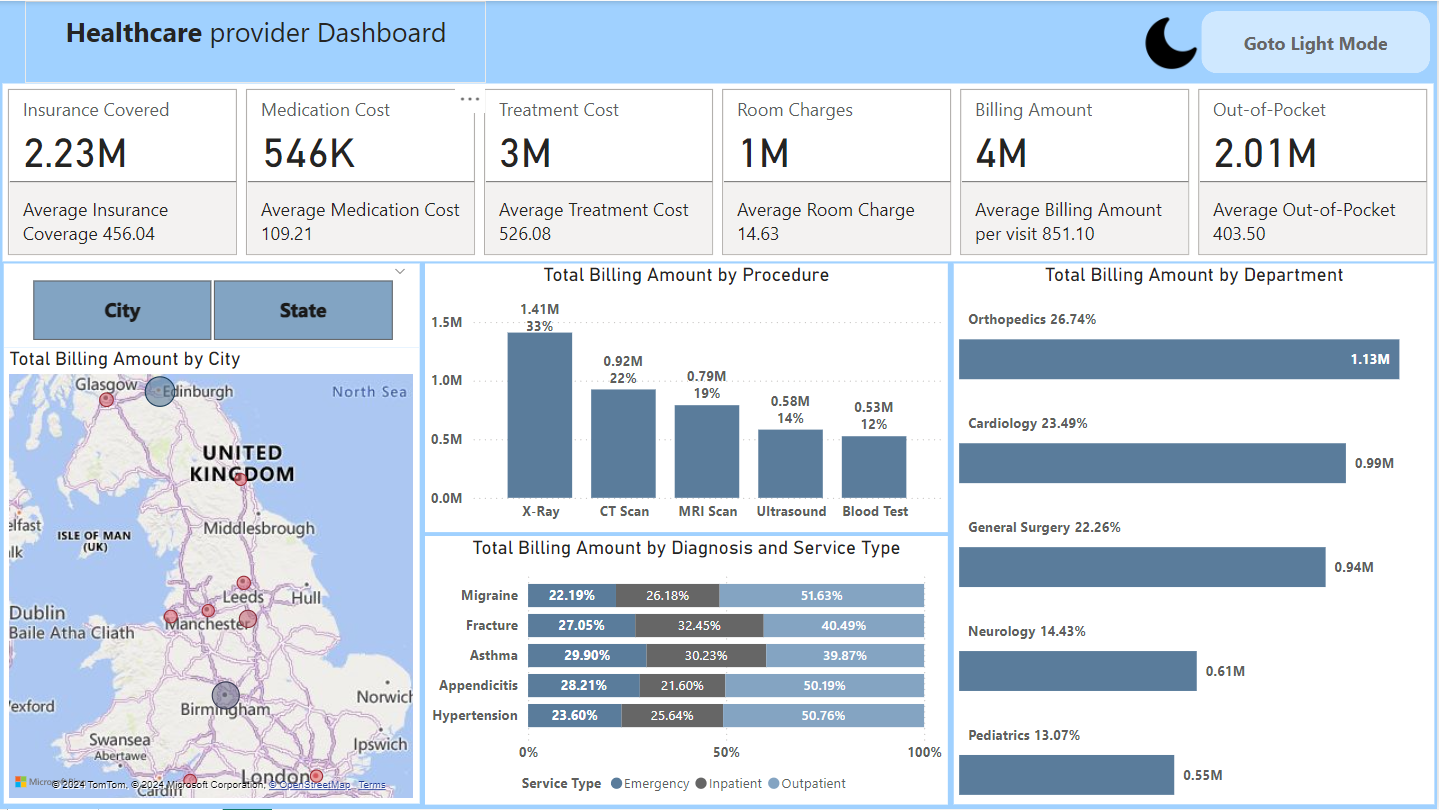

Layout of this report page (visuals, bound fields, positions):
{"tool":"powerbi","page":{"name":"Detail Dark","canvas":[1280,720],"ordinal":1},"visuals":[{"type":"cardVisual","fields":{"Data":["DAX Column.Total Insurance Covered","DAX Column.Total Medication cost","DAX Column.Total Treatment cost","DAX Column.Total Room Charges","DAX Column.Total Billing Amount","DAX Column.Out-of-Pocket"]},"box":[0,73.6,1274,158],"z":0},{"type":"map","fields":{"Category":["cities.City","cities.State"],"Size":["DAX Column.Total Billing Amount"]},"box":[3.6,308.8,370.4,406.6],"z":1000},{"type":"slicer","fields":{"Values":["Patient Location Switch.Patient Location Switch"]},"box":[0,234,370.4,74.8],"z":2000},{"type":"columnChart","fields":{"Category":["procedures.Procedure"],"Y":["DAX Column.Total Billing Amount"]},"box":[378.8,234,465.7,238.9],"z":3000},{"type":"hundredPercentStackedBarChart","fields":{"Y":["DAX Column.Total Billing Amount"],"Category":["diagnoses.Diagnosis"],"Series":["visits.Service Type"]},"box":[378.8,476.5,465.7,238.9],"z":4000},{"type":"clusteredBarChart","title":" Total Billing Amount by Department","fields":{"Category":["departments.Department"],"Y":["DAX Column.Blank Measure","DAX Column.Total Billing Amount"]},"box":[849.3,234,428.3,481.4],"z":5000},{"type":"textbox","title":"Healthcare provider Dashboard","box":[0,0,1280,73.6],"z":6000},{"type":"image","box":[1001.3,6,62.7,55.5],"z":7000},{"type":"actionButton","box":[1070.1,6,203.9,67.6],"z":8000}]}

Visuals, with their boxes in screenshot pixels (x1, y1, x2, y2), scaled from the page's 1280x720 canvas onto the 1439x810 screenshot:
cardVisual - DAX Column.Total Insurance Covered x DAX Column.Total Medication cost: region(0, 83, 1432, 261)
map - cities.City x cities.State: region(4, 347, 420, 805)
slicer - Patient Location Switch.Patient Location Switch: region(0, 263, 416, 347)
columnChart - procedures.Procedure x DAX Column.Total Billing Amount: region(426, 263, 949, 532)
hundredPercentStackedBarChart - DAX Column.Total Billing Amount x diagnoses.Diagnosis: region(426, 536, 949, 805)
" Total Billing Amount by Department" clusteredBarChart: region(955, 263, 1436, 805)
"Healthcare provider Dashboard" textbox: region(0, 0, 1438, 83)
image: region(1126, 7, 1196, 69)
actionButton: region(1203, 7, 1432, 83)
